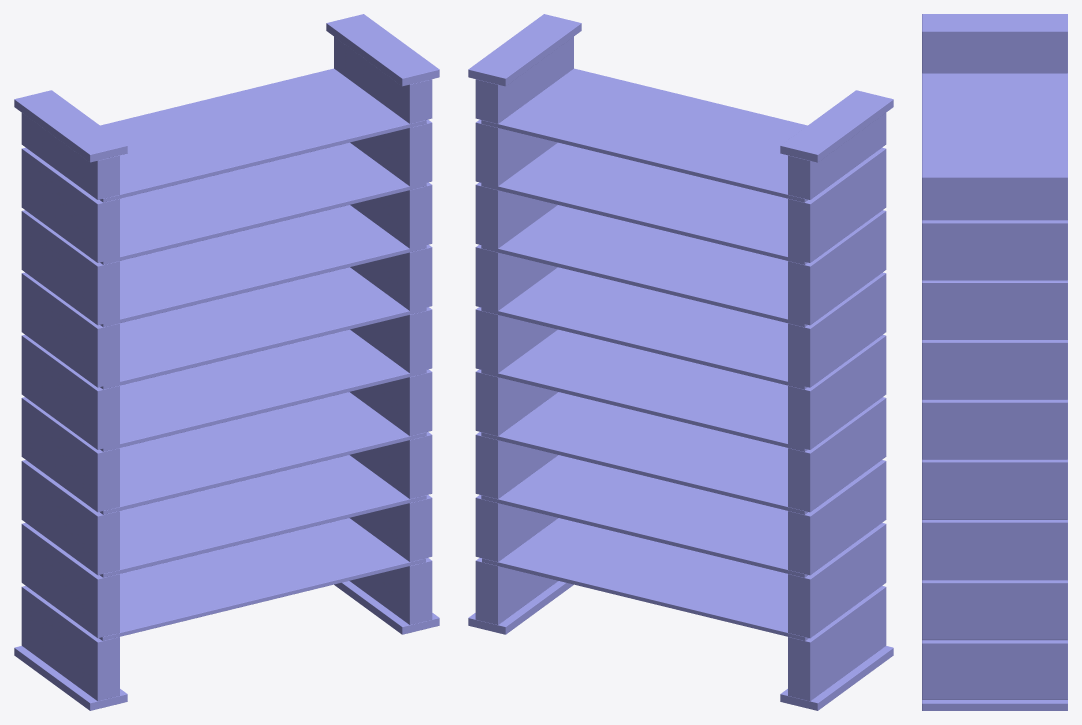
Rendered from bookcase.fbx.
3 views of the same model, side by side, from view 1: azimuth 30°, elevation 25°; view 2: azimuth 150°, elevation 25°; view 3: azimuth 270°, elevation 25° (orthographic). The views are drawn at different scales.
Visible parts, largest first — view 1: ChamferBox037; view 2: ChamferBox037; view 3: ChamferBox037.
Part boxes in pixels (x1,y1,x2,y2): ChamferBox037: (14, 14, 439, 710); ChamferBox037: (468, 14, 893, 710); ChamferBox037: (922, 14, 1067, 710).
Bounding box in the file's own units: 36.61 × 55.65 × 13.78.
